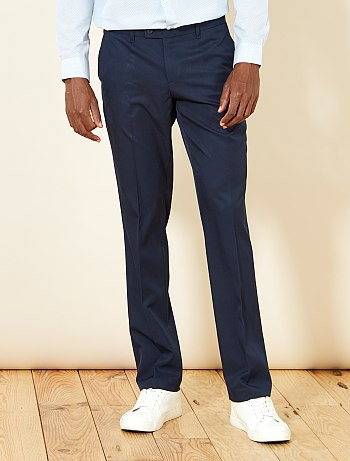feet: (100, 347, 294, 449)
